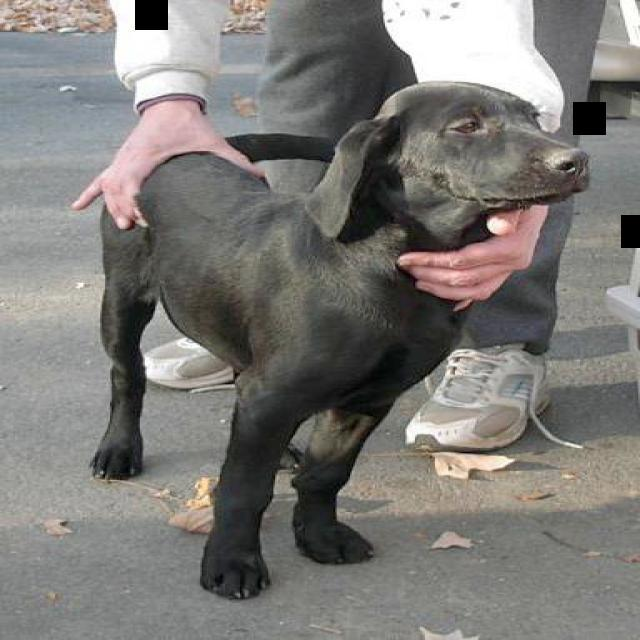adult_dog: (78, 74, 595, 610)
